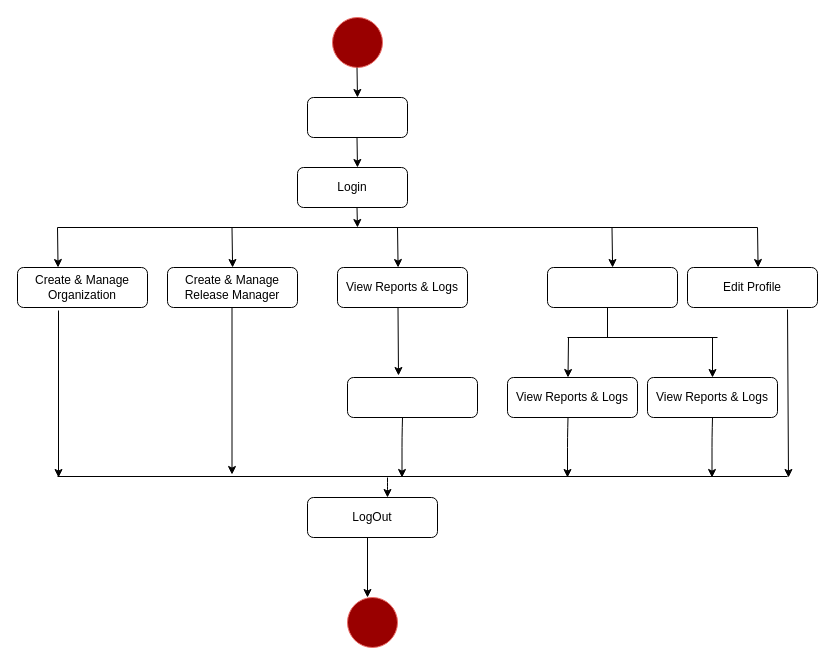
Some shapes in this 835 by 665 pixel diagram are drawn without their labels. Each missing label, with the centre of its shape:
Admin: the point at 357,117
Generate / Export Reports & Logs: the point at 412,397
Manage Setting: the point at 612,287
